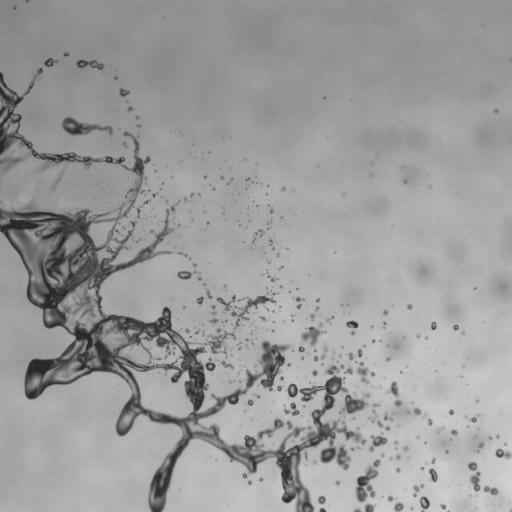droplet: (368, 432, 387, 452), (283, 401, 300, 416), (346, 320, 358, 335), (495, 448, 511, 459), (419, 496, 430, 511), (428, 467, 438, 482), (483, 485, 498, 495), (55, 56, 66, 67), (112, 130, 123, 141), (70, 160, 81, 171), (233, 177, 244, 188), (36, 200, 47, 211), (13, 201, 24, 212), (89, 203, 100, 214), (66, 205, 77, 216), (116, 252, 127, 263), (101, 276, 112, 287), (302, 300, 313, 311), (147, 311, 158, 322), (205, 324, 216, 335), (236, 326, 247, 337), (291, 335, 302, 346), (47, 348, 58, 359), (316, 373, 327, 384), (120, 389, 131, 400), (201, 398, 212, 409), (401, 399, 412, 410), (136, 413, 147, 424), (415, 415, 426, 426), (445, 417, 456, 428), (172, 426, 183, 437), (360, 428, 371, 439), (333, 433, 344, 444), (188, 437, 199, 448), (343, 438, 354, 449), (164, 441, 175, 452), (310, 445, 321, 456), (154, 455, 165, 466), (266, 455, 277, 466), (235, 462, 246, 473), (299, 474, 310, 485), (164, 487, 175, 498), (44, 58, 58, 66), (383, 411, 393, 421), (393, 502, 403, 511), (325, 315, 334, 324), (412, 407, 421, 416), (317, 495, 326, 504), (13, 104, 22, 113), (47, 146, 56, 155), (76, 148, 85, 157), (126, 157, 135, 166), (142, 163, 151, 172), (115, 193, 124, 202), (135, 194, 144, 203), (2, 202, 11, 211), (119, 216, 128, 225), (258, 236, 267, 245), (139, 239, 148, 248), (109, 271, 118, 280), (102, 306, 111, 315), (224, 336, 233, 345), (38, 351, 47, 360), (340, 356, 349, 365), (323, 358, 332, 367), (100, 370, 109, 379), (351, 372, 360, 381), (225, 385, 234, 394), (364, 396, 373, 405), (372, 427, 381, 436), (319, 439, 328, 448), (493, 439, 502, 448), (171, 465, 180, 474), (144, 472, 153, 481), (364, 495, 373, 504), (309, 496, 318, 505), (411, 497, 420, 506), (311, 501, 320, 510), (119, 88, 129, 96), (196, 296, 204, 306), (505, 442, 511, 453), (244, 399, 254, 405), (387, 495, 397, 501), (309, 313, 316, 321), (128, 110, 135, 117), (56, 116, 63, 123), (75, 116, 82, 123), (89, 129, 96, 136), (65, 132, 72, 139), (73, 133, 80, 140), (24, 134, 31, 141), (35, 146, 42, 153), (98, 151, 105, 158), (111, 152, 118, 159), (36, 158, 43, 165), (15, 161, 22, 168), (76, 161, 83, 168), (61, 174, 68, 181), (56, 182, 63, 189), (144, 192, 151, 199), (77, 203, 84, 210), (129, 207, 136, 214), (154, 226, 161, 233), (173, 226, 180, 233), (265, 230, 272, 237), (148, 234, 155, 241), (162, 234, 169, 241), (154, 244, 161, 251), (170, 252, 177, 259), (111, 258, 118, 265), (134, 261, 141, 268), (126, 265, 133, 272), (186, 265, 193, 272), (117, 268, 124, 275), (258, 289, 265, 296), (211, 290, 218, 297), (223, 294, 230, 301), (209, 297, 216, 304), (216, 302, 223, 309), (215, 320, 222, 327), (264, 320, 271, 327), (311, 320, 318, 327), (54, 324, 61, 331), (225, 325, 232, 332), (68, 334, 75, 341), (316, 334, 323, 341), (255, 338, 262, 345), (268, 338, 275, 345), (302, 340, 309, 347), (314, 341, 321, 348), (257, 347, 264, 354), (315, 349, 322, 356), (325, 350, 332, 357), (312, 361, 319, 368), (214, 363, 221, 370), (279, 363, 286, 370), (256, 364, 263, 371), (20, 365, 27, 372), (202, 368, 209, 375), (364, 372, 371, 379), (240, 373, 247, 380), (282, 380, 289, 387), (239, 382, 246, 389), (383, 382, 390, 389), (396, 384, 403, 391), (44, 385, 51, 392), (202, 389, 209, 396), (388, 393, 395, 400), (397, 393, 404, 400), (35, 394, 42, 401), (122, 395, 129, 402), (30, 397, 37, 404), (198, 405, 205, 412), (353, 409, 360, 416), (344, 412, 351, 419), (346, 424, 353, 431), (382, 430, 389, 437), (480, 435, 487, 442), (386, 437, 393, 444), (365, 438, 372, 445), (396, 442, 403, 449), (375, 444, 382, 451), (181, 447, 188, 454), (396, 447, 403, 454), (218, 450, 225, 457), (175, 456, 182, 463), (330, 457, 337, 464), (393, 459, 400, 466), (297, 463, 304, 470), (335, 464, 342, 471), (240, 465, 247, 472), (375, 465, 382, 472), (274, 466, 281, 473), (247, 472, 254, 479), (367, 478, 374, 485), (478, 480, 485, 487), (350, 490, 357, 497), (416, 490, 423, 497), (289, 498, 296, 505), (358, 502, 365, 509), (450, 429, 458, 435), (431, 321, 436, 330), (413, 506, 422, 511), (122, 141, 128, 148), (311, 369, 317, 376), (402, 445, 409, 451), (395, 453, 401, 460), (430, 457, 436, 464), (259, 316, 267, 321), (428, 418, 433, 426), (406, 304, 412, 310), (382, 309, 388, 315), (0, 98, 4, 107), (127, 106, 134, 111), (318, 507, 326, 511), (280, 186, 286, 191), (152, 192, 158, 197), (296, 304, 302, 309), (453, 324, 458, 330), (185, 328, 190, 334), (449, 409, 454, 415), (422, 412, 427, 418), (247, 479, 252, 485), (440, 504, 446, 509), (144, 507, 151, 511), (161, 507, 168, 511), (312, 507, 319, 511), (400, 507, 407, 511), (493, 108, 498, 113), (189, 192, 194, 197), (460, 330, 465, 335), (63, 47, 68, 52), (76, 55, 81, 60), (85, 56, 90, 61), (72, 63, 77, 68), (41, 64, 46, 69), (85, 64, 90, 69), (32, 68, 37, 73), (2, 76, 7, 81), (23, 84, 28, 89), (122, 84, 127, 89), (114, 89, 119, 94), (17, 91, 22, 96), (124, 94, 129, 99), (127, 101, 132, 106), (124, 102, 129, 107), (493, 103, 498, 108), (62, 113, 67, 118), (19, 118, 24, 123), (134, 119, 139, 124), (99, 122, 104, 127), (111, 126, 116, 131), (126, 127, 131, 132), (17, 129, 22, 134), (103, 129, 108, 134), (118, 129, 123, 134), (131, 130, 136, 135), (136, 137, 141, 142), (130, 143, 135, 148), (138, 143, 143, 148), (31, 144, 36, 149), (57, 149, 62, 154), (90, 153, 95, 158), (140, 155, 145, 160), (149, 155, 154, 160), (73, 160, 78, 165), (106, 162, 111, 167), (224, 176, 229, 181), (58, 180, 63, 185), (139, 184, 144, 189), (285, 185, 290, 190), (265, 187, 270, 192), (157, 190, 162, 195), (192, 194, 197, 199), (133, 201, 138, 206), (160, 215, 165, 220), (167, 222, 172, 227), (127, 224, 132, 229), (261, 225, 266, 230), (144, 228, 149, 233), (112, 231, 117, 236), (117, 235, 122, 240), (126, 238, 131, 243), (271, 241, 276, 246), (6, 242, 11, 247), (182, 248, 187, 253), (12, 249, 17, 254), (271, 249, 276, 254), (162, 253, 167, 258), (15, 254, 20, 259), (190, 257, 195, 262), (142, 259, 147, 264), (19, 263, 24, 268), (194, 265, 199, 270), (178, 266, 183, 271), (22, 269, 27, 274), (190, 273, 195, 278), (182, 278, 187, 283), (197, 280, 202, 285), (22, 283, 27, 288), (21, 289, 26, 294), (98, 290, 103, 295), (272, 294, 277, 299), (250, 295, 255, 300), (23, 296, 28, 301), (202, 296, 207, 301), (408, 299, 413, 304), (99, 300, 104, 305), (264, 300, 269, 305), (275, 300, 280, 305), (315, 301, 320, 306), (28, 302, 33, 307), (256, 302, 261, 307), (249, 304, 254, 309), (411, 304, 416, 309), (168, 305, 173, 310), (384, 305, 389, 310), (37, 307, 42, 312), (310, 308, 315, 313), (405, 308, 410, 313), (408, 308, 413, 313), (226, 309, 231, 314), (387, 309, 392, 314), (115, 310, 120, 315), (157, 312, 162, 317), (243, 312, 248, 317), (213, 313, 218, 318), (208, 314, 213, 319), (232, 315, 237, 320), (382, 315, 387, 320), (347, 316, 352, 321), (351, 316, 356, 321), (239, 318, 244, 323), (39, 322, 44, 327), (426, 322, 431, 327), (269, 323, 274, 328), (170, 324, 175, 329), (41, 325, 46, 330), (249, 325, 254, 330), (457, 325, 462, 330), (348, 326, 353, 331), (353, 327, 358, 332), (454, 329, 459, 334), (179, 330, 184, 335), (188, 330, 193, 335), (233, 330, 238, 335), (196, 332, 201, 337), (247, 334, 252, 339), (419, 334, 424, 339), (184, 336, 189, 341), (234, 338, 239, 343), (327, 345, 332, 350), (60, 346, 65, 351), (240, 346, 245, 351), (335, 348, 340, 353), (226, 349, 231, 354), (352, 350, 357, 355), (361, 350, 366, 355), (298, 351, 303, 356), (311, 351, 316, 356), (343, 354, 348, 359), (356, 356, 361, 361), (224, 358, 229, 363), (316, 358, 321, 363), (331, 360, 336, 365), (335, 362, 340, 367), (233, 365, 238, 370), (367, 367, 372, 372), (401, 367, 406, 372), (307, 368, 312, 373), (249, 369, 254, 374), (90, 370, 95, 375), (307, 371, 312, 376), (344, 372, 349, 377), (113, 373, 118, 378), (327, 373, 332, 378), (82, 374, 87, 379), (73, 379, 78, 384), (320, 380, 325, 385), (359, 381, 364, 386), (67, 382, 72, 387), (63, 383, 68, 388), (306, 383, 311, 388), (296, 384, 301, 389), (20, 391, 25, 396), (350, 394, 355, 399), (363, 397, 368, 402), (398, 404, 403, 409), (393, 405, 398, 410), (374, 406, 379, 411), (420, 408, 425, 413), (409, 410, 414, 415), (386, 411, 391, 416), (467, 413, 472, 418), (416, 414, 421, 419), (382, 420, 387, 425), (469, 421, 474, 426), (372, 422, 377, 427), (451, 424, 456, 429), (111, 427, 116, 432), (446, 427, 451, 432), (126, 430, 131, 435), (490, 432, 495, 437), (449, 433, 454, 438), (475, 438, 480, 443), (356, 441, 361, 446), (407, 443, 412, 448), (473, 444, 478, 449), (343, 445, 348, 450), (373, 445, 378, 450), (501, 446, 506, 451), (479, 447, 484, 452), (299, 449, 304, 454), (346, 450, 351, 455), (272, 456, 277, 461), (499, 456, 504, 461), (379, 457, 384, 462), (391, 457, 396, 462), (426, 457, 431, 462), (468, 457, 473, 462), (347, 460, 352, 465), (368, 460, 373, 465), (256, 462, 261, 467), (429, 463, 434, 468), (424, 466, 429, 471), (475, 466, 480, 471), (435, 469, 440, 474), (360, 471, 365, 476), (426, 473, 431, 478), (242, 477, 247, 482), (429, 480, 434, 485), (468, 483, 473, 488), (488, 483, 493, 488), (478, 487, 483, 492), (279, 488, 284, 493), (485, 490, 490, 495), (317, 491, 322, 496), (320, 491, 325, 496), (374, 491, 379, 496), (391, 492, 396, 497), (426, 495, 431, 500), (382, 496, 387, 501), (277, 497, 282, 502), (391, 499, 396, 504), (281, 501, 286, 506), (320, 503, 325, 508), (63, 52, 69, 56), (184, 196, 188, 202), (174, 222, 180, 226), (251, 339, 255, 345), (385, 357, 391, 361), (0, 231, 3, 238), (245, 177, 250, 181), (402, 179, 407, 183), (192, 263, 197, 267), (315, 298, 320, 302), (315, 306, 319, 311), (475, 398, 479, 403), (415, 434, 420, 438), (495, 434, 499, 439), (396, 467, 400, 472), (258, 477, 263, 481), (335, 480, 339, 485), (348, 507, 353, 511), (270, 207, 273, 213), (135, 115, 139, 119), (267, 259, 271, 263), (271, 309, 275, 313), (249, 330, 253, 334), (416, 334, 420, 338), (371, 339, 375, 343), (406, 410, 410, 414), (351, 416, 355, 420), (474, 434, 478, 438), (445, 449, 449, 453), (380, 453, 384, 457), (420, 466, 424, 470), (136, 124, 141, 127), (165, 199, 168, 204), (276, 252, 279, 257), (332, 349, 335, 354), (389, 455, 392, 460), (372, 508, 377, 511), (390, 508, 395, 511), (423, 508, 428, 511), (440, 508, 445, 511), (243, 158, 247, 161), (153, 169, 157, 172), (203, 175, 207, 178), (220, 175, 223, 179), (428, 184, 431, 188), (342, 192, 345, 196), (188, 256, 191, 260), (202, 283, 206, 286), (338, 353, 341, 357), (331, 356, 334, 360), (243, 409, 247, 412), (488, 436, 492, 439), (410, 506, 413, 510), (0, 117, 2, 122), (13, 6, 16, 9), (114, 76, 117, 79), (323, 96, 326, 99), (161, 182, 164, 185), (266, 184, 269, 187), (212, 187, 215, 190), (147, 189, 150, 192), (206, 221, 209, 224), (122, 226, 125, 229), (279, 285, 282, 288), (473, 286, 476, 289), (288, 290, 291, 293), (340, 303, 343, 306), (282, 320, 285, 323), (370, 325, 373, 328), (271, 329, 274, 332), (424, 336, 427, 339), (362, 344, 365, 347), (301, 356, 304, 359), (462, 365, 465, 368), (302, 405, 305, 408), (250, 417, 253, 420), (449, 438, 452, 441), (425, 462, 428, 465), (15, 7, 18, 10), (11, 8, 14, 11), (60, 52, 63, 55), (64, 55, 67, 58), (44, 57, 47, 60), (52, 57, 55, 60), (52, 62, 55, 65), (76, 66, 79, 69), (102, 66, 105, 69), (94, 67, 97, 70), (40, 71, 43, 74), (112, 73, 115, 76), (117, 76, 120, 79), (114, 79, 117, 82), (30, 87, 33, 90), (12, 88, 15, 91), (322, 92, 325, 95), (319, 95, 322, 98), (325, 95, 328, 98), (497, 108, 500, 111), (490, 109, 493, 112), (494, 112, 497, 115), (132, 116, 135, 119), (138, 116, 141, 119), (122, 167, 125, 170), (155, 171, 158, 174), (202, 172, 205, 175), (206, 175, 209, 178), (245, 175, 248, 178), (217, 176, 220, 179), (231, 179, 234, 182), (247, 179, 250, 182), (257, 180, 260, 183), (400, 181, 403, 184), (228, 182, 231, 185), (252, 182, 255, 185), (263, 183, 266, 186), (403, 183, 406, 186), (159, 184, 162, 187), (278, 184, 281, 187), (209, 185, 212, 188), (214, 185, 217, 188), (247, 186, 250, 189), (152, 190, 155, 193), (212, 190, 215, 193), (123, 191, 126, 194), (187, 191, 190, 194), (199, 191, 202, 194), (193, 192, 196, 195), (154, 194, 157, 197), (264, 195, 267, 198), (164, 196, 167, 199), (186, 196, 189, 199), (160, 197, 163, 200), (250, 197, 253, 200), (180, 198, 183, 201), (174, 199, 177, 202), (162, 200, 165, 203), (266, 200, 269, 203), (254, 201, 257, 204), (144, 203, 147, 206), (244, 204, 247, 207), (257, 205, 260, 208), (254, 206, 257, 209), (267, 206, 270, 209), (272, 207, 275, 210), (101, 210, 104, 213), (139, 211, 142, 214), (126, 212, 129, 215), (271, 212, 274, 215), (135, 217, 138, 220), (131, 218, 134, 221), (205, 218, 208, 221), (267, 218, 270, 221), (208, 219, 211, 222), (238, 220, 241, 223), (179, 221, 182, 224), (235, 221, 238, 224), (134, 223, 137, 226), (204, 223, 207, 226), (207, 223, 210, 226), (114, 226, 117, 229), (254, 228, 257, 231), (268, 228, 271, 231), (131, 230, 134, 233), (260, 235, 263, 238), (127, 236, 130, 239), (250, 236, 253, 239), (271, 237, 274, 240), (276, 239, 279, 242), (266, 240, 269, 243), (251, 244, 254, 247), (286, 244, 289, 247), (268, 245, 271, 248), (177, 248, 180, 251), (283, 248, 286, 251), (273, 253, 276, 256), (278, 253, 281, 256), (180, 254, 183, 257), (185, 256, 188, 259), (270, 261, 273, 264), (267, 263, 270, 266), (277, 264, 280, 267), (280, 267, 283, 270), (270, 274, 273, 277), (175, 275, 178, 278), (267, 277, 270, 280), (220, 283, 223, 286), (281, 283, 284, 286), (473, 283, 476, 286), (295, 284, 298, 287), (225, 285, 228, 288), (476, 286, 479, 289), (286, 287, 289, 290), (292, 287, 295, 290), (272, 289, 275, 292), (473, 289, 476, 292), (209, 292, 212, 295), (197, 294, 200, 297), (218, 294, 221, 297), (299, 295, 302, 298), (315, 295, 318, 298), (193, 297, 196, 300), (312, 298, 315, 301), (319, 298, 322, 301), (296, 301, 299, 304), (182, 302, 185, 305), (195, 302, 198, 305), (343, 303, 346, 306), (179, 304, 182, 307), (300, 305, 303, 308), (280, 306, 283, 309), (183, 307, 186, 310), (210, 308, 213, 311), (295, 308, 298, 311), (317, 308, 320, 311), (273, 311, 276, 314), (260, 313, 263, 316), (292, 315, 295, 318), (327, 315, 330, 318), (265, 316, 268, 319), (288, 316, 291, 319), (313, 316, 316, 319), (221, 317, 224, 320), (258, 317, 261, 320), (431, 318, 434, 321), (262, 320, 265, 323), (222, 321, 225, 324), (274, 321, 277, 324), (291, 321, 294, 324), (209, 322, 212, 325), (252, 322, 255, 325), (368, 322, 371, 325), (451, 322, 454, 325), (380, 323, 383, 326), (307, 324, 310, 327), (384, 324, 387, 327), (435, 325, 438, 328), (450, 326, 453, 329), (273, 327, 276, 330), (379, 327, 382, 330), (268, 328, 271, 331), (247, 329, 250, 332), (431, 329, 434, 332), (252, 330, 255, 333), (351, 334, 354, 337), (461, 334, 464, 337), (245, 335, 248, 338), (413, 335, 416, 338), (372, 336, 375, 339), (378, 336, 381, 339), (368, 339, 371, 342), (375, 339, 378, 342), (243, 340, 246, 343), (247, 340, 250, 343), (235, 345, 238, 348), (295, 347, 298, 350), (346, 350, 349, 353), (385, 354, 388, 357), (317, 355, 320, 358), (303, 356, 306, 359), (310, 356, 313, 359), (336, 356, 339, 359), (382, 358, 385, 361), (300, 359, 303, 362), (388, 359, 391, 362), (290, 362, 293, 365), (373, 370, 376, 373), (396, 370, 399, 373), (460, 372, 463, 375), (457, 376, 460, 379), (229, 377, 232, 380), (368, 382, 371, 385), (478, 398, 481, 401), (473, 401, 476, 404), (449, 406, 452, 409), (446, 412, 449, 415), (452, 412, 455, 415), (391, 415, 394, 418), (430, 417, 433, 420), (367, 419, 370, 422), (425, 420, 428, 423), (414, 432, 417, 435), (486, 433, 489, 436), (498, 433, 501, 436), (396, 438, 399, 441), (420, 441, 423, 444), (426, 441, 429, 444), (447, 448, 450, 451), (442, 449, 445, 452), (446, 452, 449, 455), (433, 454, 436, 457), (392, 455, 395, 458), (434, 459, 437, 462), (420, 463, 423, 466), (346, 467, 349, 470), (399, 467, 402, 470), (393, 468, 396, 471), (418, 468, 421, 471), (396, 471, 399, 474), (239, 474, 242, 477), (338, 479, 341, 482), (260, 480, 263, 483), (332, 480, 335, 483), (416, 483, 419, 486), (247, 484, 250, 487), (335, 484, 338, 487), (440, 501, 443, 504), (438, 505, 441, 508), (419, 506, 422, 509), (471, 507, 474, 510), (506, 507, 509, 510), (191, 218, 193, 222), (25, 0, 28, 2), (260, 182, 262, 185), (265, 193, 268, 195), (203, 211, 206, 213), (280, 216, 283, 218), (242, 241, 245, 243), (260, 273, 263, 275), (346, 303, 349, 305), (182, 306, 185, 308), (252, 311, 255, 313), (272, 321, 275, 323), (403, 336, 406, 338), (230, 354, 233, 356), (336, 360, 338, 363), (406, 365, 408, 368), (400, 370, 402, 373), (459, 375, 462, 377), (392, 412, 394, 415), (467, 425, 470, 427), (424, 441, 426, 444), (504, 442, 506, 445), (447, 509, 450, 511), (509, 508, 511, 511), (409, 509, 412, 511), (475, 509, 478, 511), (126, 100, 128, 102), (118, 128, 120, 130), (208, 151, 210, 153), (153, 164, 155, 166), (251, 181, 253, 183), (252, 200, 254, 202), (267, 204, 269, 206), (222, 212, 224, 214), (154, 215, 156, 217), (238, 224, 240, 226), (245, 226, 247, 228), (286, 247, 288, 249), (334, 251, 336, 253), (348, 312, 350, 314), (202, 323, 204, 325), (266, 329, 268, 331), (255, 337, 257, 339), (341, 345, 343, 347), (291, 349, 293, 351), (321, 363, 323, 365), (435, 370, 437, 372), (411, 401, 413, 403), (301, 415, 303, 417), (381, 495, 383, 497), (22, 0, 25, 1), (28, 0, 31, 1), (510, 58, 511, 60), (171, 176, 172, 178), (209, 184, 211, 185), (262, 247, 264, 248), (296, 288, 298, 289), (255, 327, 257, 328), (189, 336, 191, 337), (273, 443, 274, 445), (238, 193, 239, 194), (237, 220, 238, 221), (249, 220, 250, 221), (309, 274, 310, 275), (379, 340, 380, 341)
ligament: (355, 459, 381, 502), (61, 116, 113, 135), (467, 462, 480, 497), (385, 381, 402, 406), (249, 229, 266, 250), (313, 341, 328, 361), (76, 60, 103, 69), (177, 270, 201, 280), (352, 503, 376, 511), (464, 413, 482, 422), (266, 269, 278, 282), (412, 484, 424, 497), (474, 442, 484, 453), (268, 237, 275, 250), (205, 288, 212, 299), (266, 218, 272, 230), (176, 251, 188, 257), (292, 296, 305, 301), (436, 426, 445, 433), (226, 177, 233, 185), (371, 384, 382, 389), (350, 446, 361, 451), (251, 393, 260, 398), (393, 440, 398, 449), (244, 338, 248, 349), (237, 369, 242, 376), (290, 314, 294, 322), (382, 321, 386, 329), (277, 265, 283, 270), (222, 284, 226, 291), (470, 507, 477, 511), (228, 380, 235, 383), (278, 305, 281, 311), (245, 185, 249, 189), (249, 322, 253, 326), (197, 191, 200, 196), (386, 344, 389, 346), (397, 425, 401, 426)
